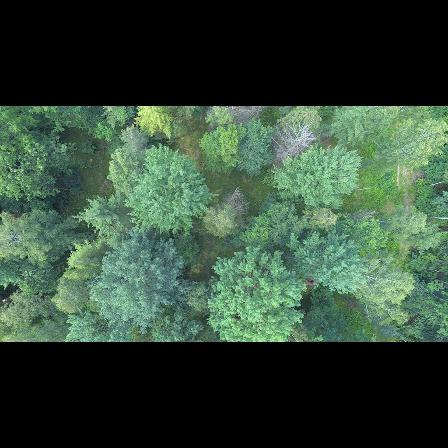Dead: (273, 124, 315, 165), (217, 180, 249, 221), (222, 106, 263, 123)
